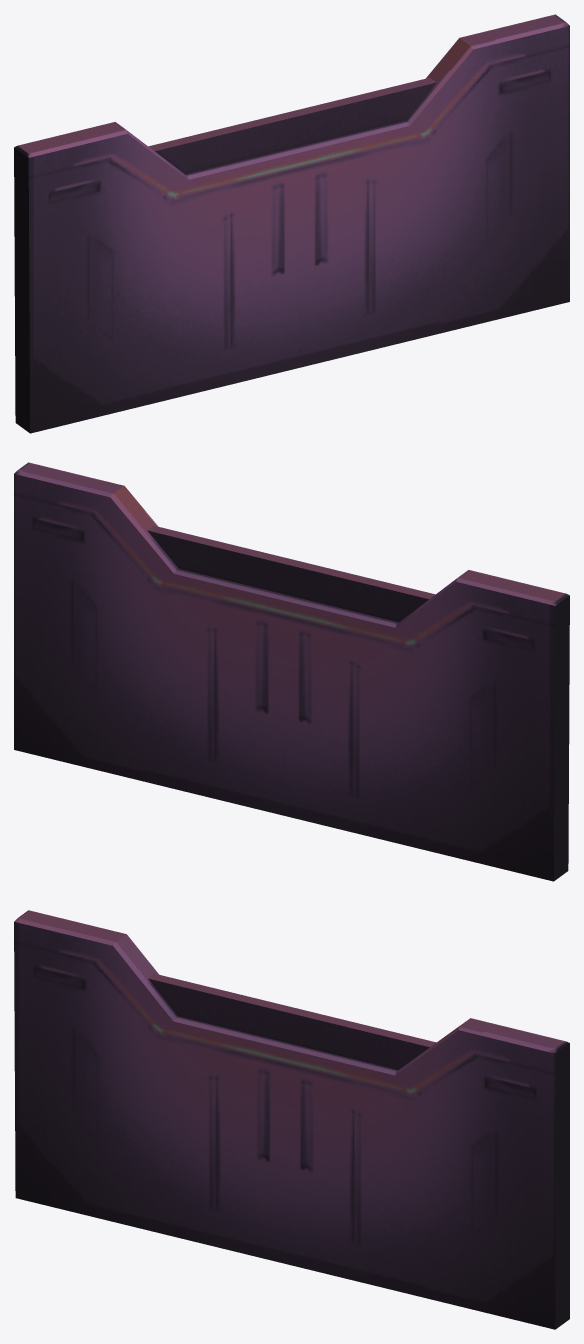
File: mod_Door_Bottom.glb
3 renders of one model, top to bottom at view 1: azimuth 30°, elevation 25°; view 2: azimuth 150°, elevation 25°; view 3: azimuth 330°, elevation 25°, orthographic.
Visible parts, largest first — view 1: seg_Door_Bottom; view 2: seg_Door_Bottom; view 3: seg_Door_Bottom.
Boxes of the visible parts, x1,y1,x2,y2 form: seg_Door_Bottom: [14, 14, 569, 433]; seg_Door_Bottom: [14, 462, 569, 881]; seg_Door_Bottom: [14, 910, 569, 1329].
Size of the model in its own units: 2.46 by 1.21 by 0.1156.
1 material, 1 textured.
